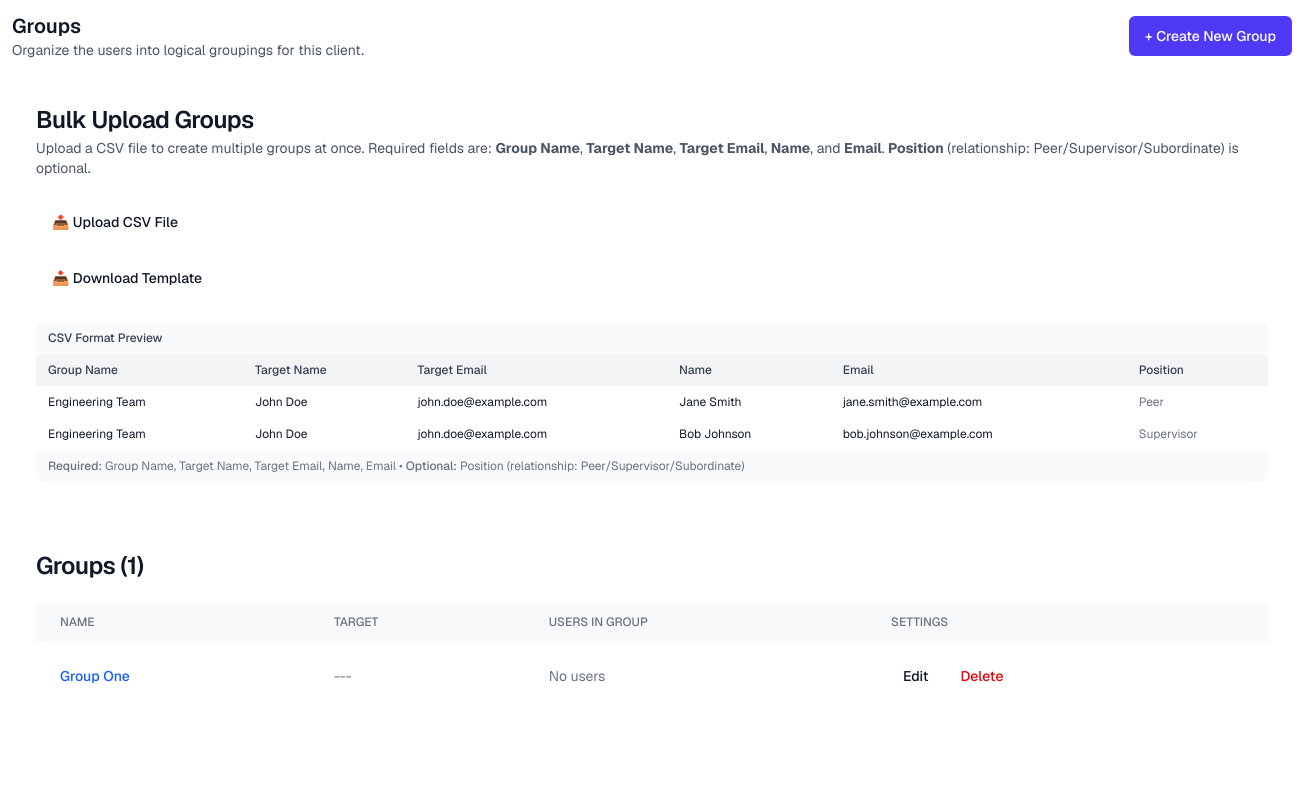
Test: ClientGroups › shows API error message when delete fails
This screenshot has width=1304, height=812.
Check: the text "Group One" is shown, box [60,667,130,685]
Click the button "Delete" at (982, 676), box [948,658,1016,694]
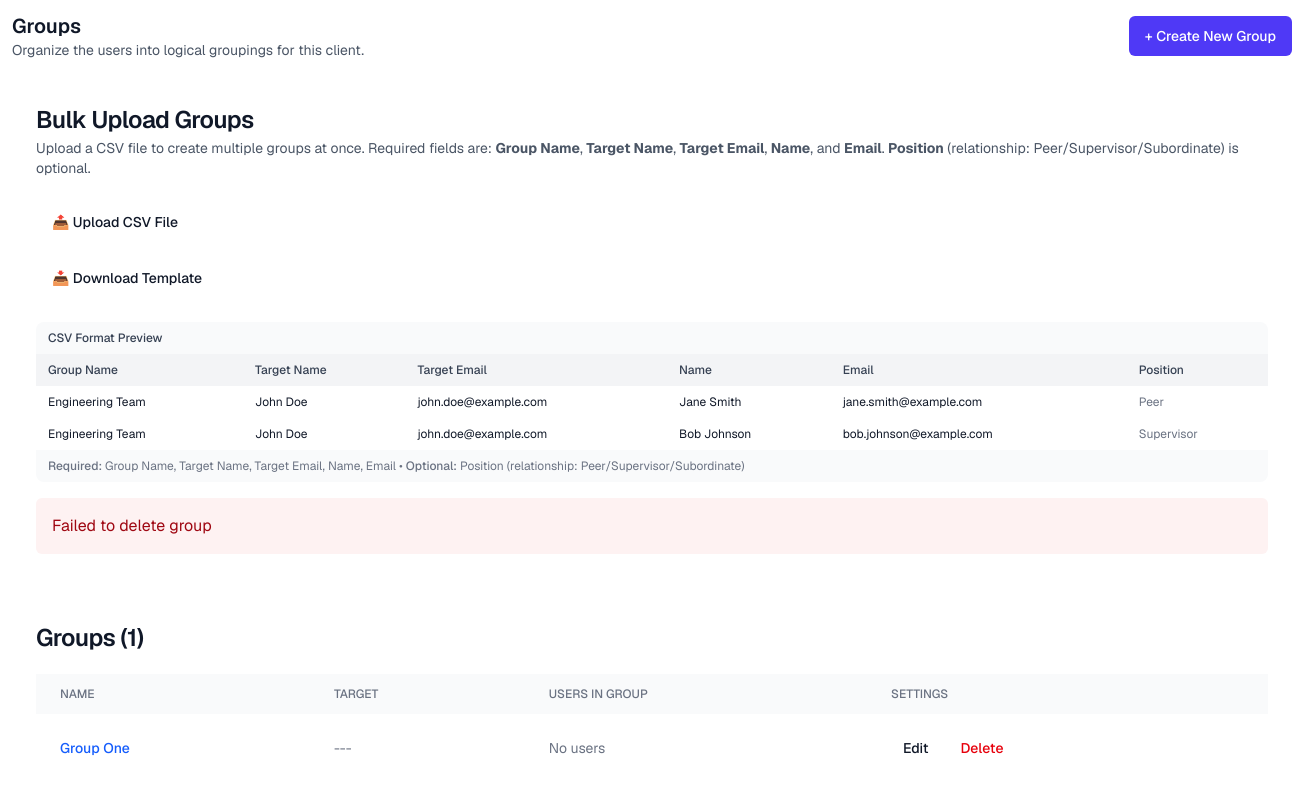
Check: the text "Failed to delete group" is shown, box [36,498,1268,554]
